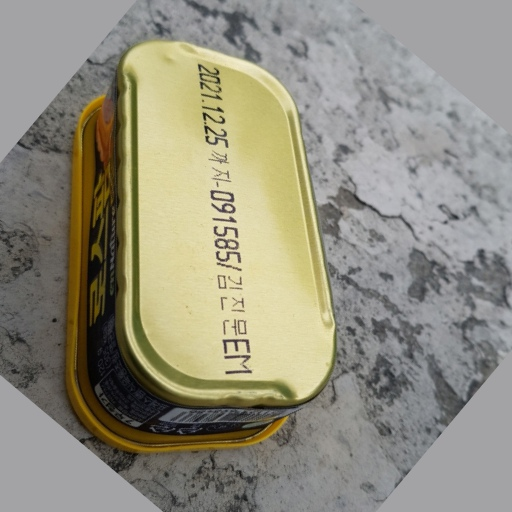Metal_2: (68, 38, 337, 452)
